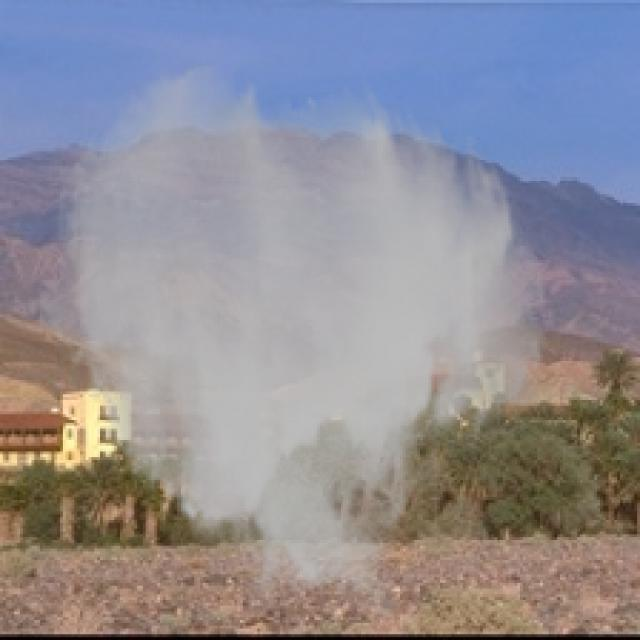Smoke: (26, 60, 552, 626)
